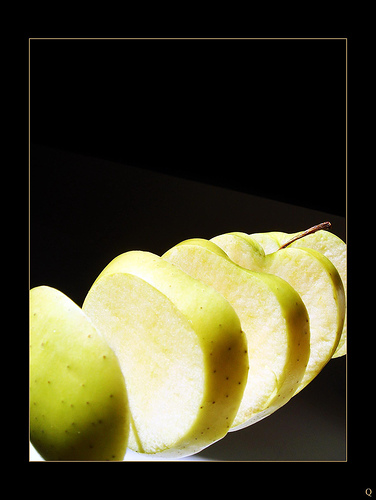apple: (27, 220, 345, 461)
